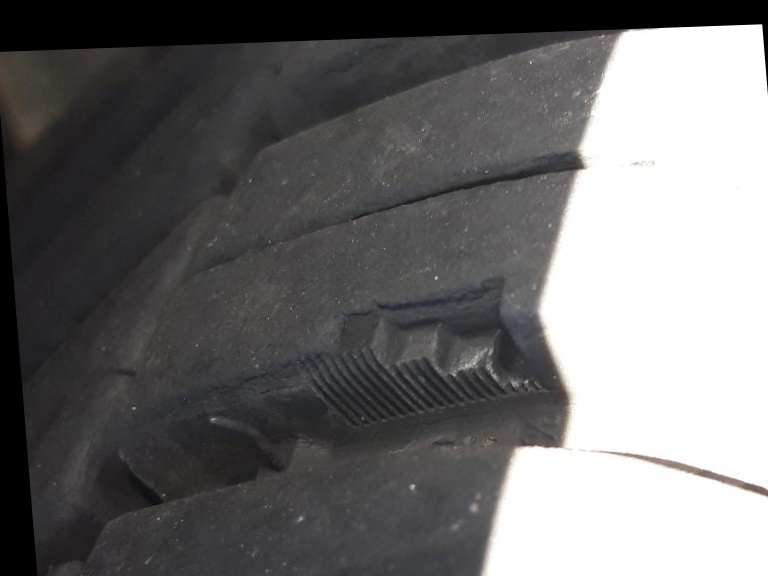temoin:80: (282, 267, 558, 440)
